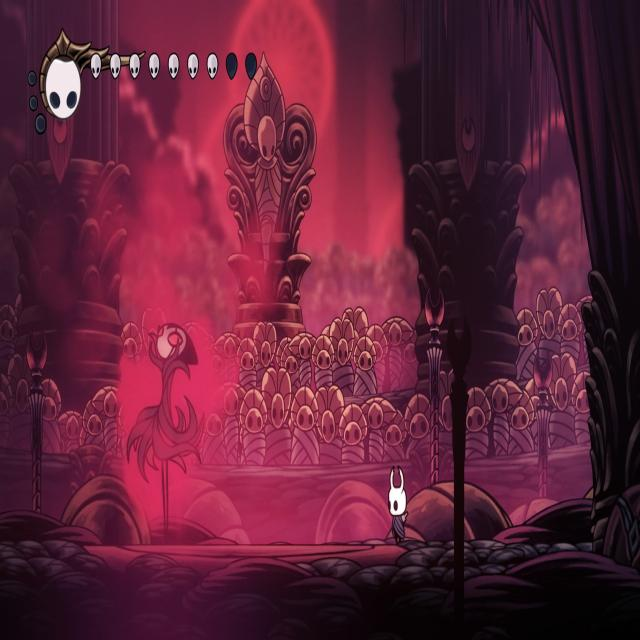Grimm: (124, 319, 206, 541)
Player: (386, 461, 412, 545)
